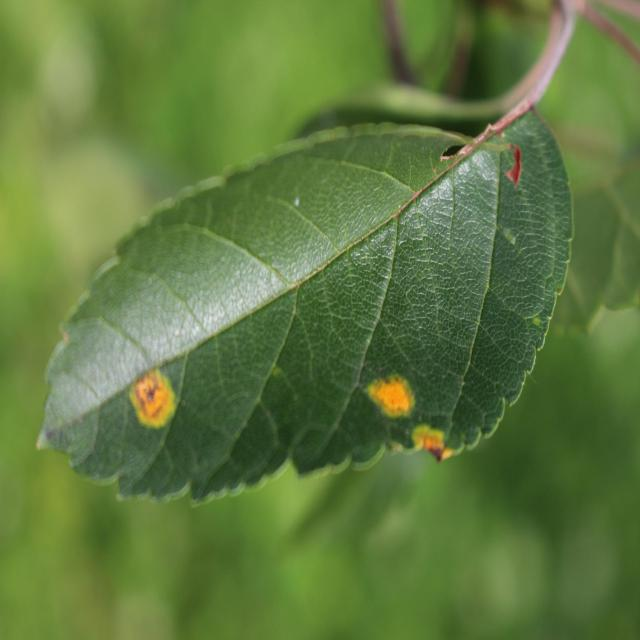Rust: (120, 369, 186, 441), (352, 368, 424, 425), (407, 418, 462, 476)
